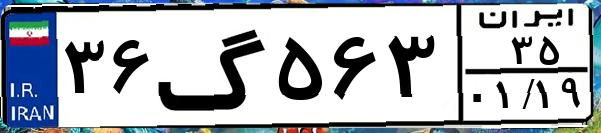0: (470, 70, 495, 125)
1: (495, 70, 520, 125), (535, 70, 560, 125)
3: (385, 28, 445, 110), (57, 26, 110, 100), (508, 27, 537, 80)
5: (270, 28, 330, 110), (537, 27, 568, 80)
6: (330, 28, 385, 110), (110, 28, 156, 98)
9: (560, 70, 590, 125)
گ: (156, 12, 270, 120)
